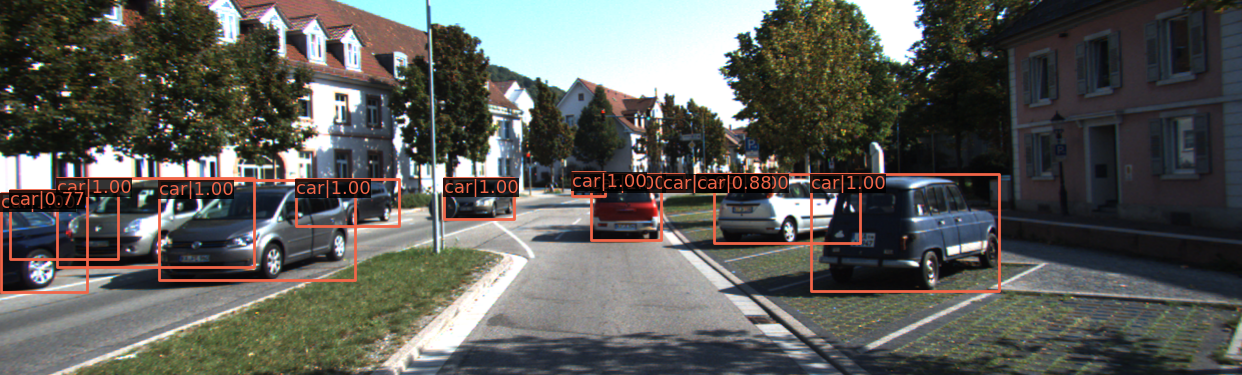car: (813, 175, 1008, 295), (158, 183, 354, 282), (68, 178, 241, 267), (716, 178, 857, 243), (1, 198, 85, 294), (165, 184, 283, 229), (299, 182, 395, 227), (595, 179, 662, 242), (448, 182, 517, 219), (438, 182, 500, 210), (572, 173, 604, 197), (665, 175, 689, 192)
